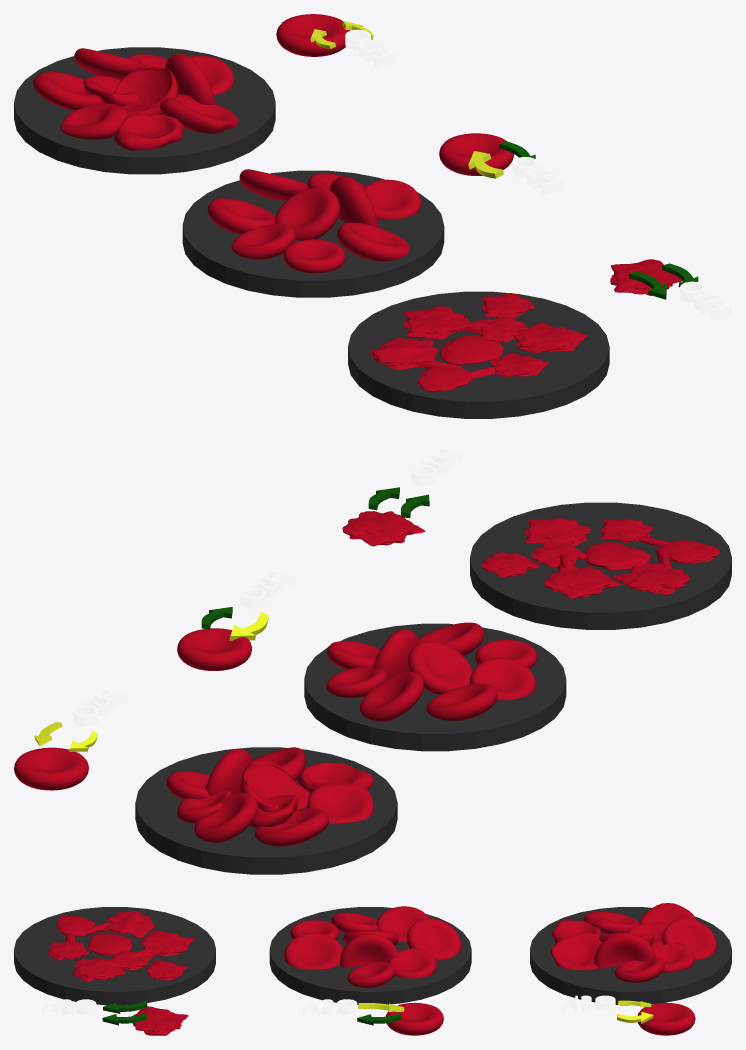
Rendered from animalcell.gltf.
3 views of the same model, one above another, from view 1: azimuth 30°, elevation 25°; view 2: azimuth 150°, elevation 25°; view 3: azimuth 270°, elevation 25° (orthographic). The views are drawn at different scales.
Parts seen in each view (by area): view 1: Circle, Circle.002, Circle.001, Sphere.003, Sphere.009, Sphere.015, Sphere.019, Sphere, Sphere.014, Sphere.018, Sphere.013, Sphere.006 (+22 smaller); view 2: Circle, Circle.001, Circle.002, Sphere.009, Sphere.019, Sphere.003, Sphere.007, Sphere.013, Sphere.015, Sphere.011, Sphere.002, Sphere.005 (+24 smaller); view 3: Circle, Circle.001, Circle.002, Sphere, Sphere.007, Sphere.010, Sphere.011, Sphere.008, Sphere.018, Sphere.009, Sphere.019, Sphere.001 (+28 smaller).
Part boxes in pixels (bbox=[...]): Circle: bbox=[348, 291, 609, 418]; Circle.002: bbox=[182, 170, 444, 297]; Circle.001: bbox=[14, 47, 275, 174]; Sphere.003: bbox=[275, 187, 340, 240]; Sphere.009: bbox=[276, 14, 350, 56]; Sphere.015: bbox=[114, 67, 178, 116]; Sphere.019: bbox=[439, 133, 513, 175]; Sphere: bbox=[337, 222, 410, 261]; Sphere.014: bbox=[114, 114, 183, 150]; Sphere.018: bbox=[160, 94, 238, 133]; Sphere.013: bbox=[60, 103, 128, 139]; Sphere.006: bbox=[363, 179, 421, 219]; Circle: bbox=[470, 502, 731, 629]; Circle.001: bbox=[135, 747, 397, 874]; Circle.002: bbox=[304, 623, 566, 751]; Sphere.009: bbox=[14, 747, 88, 790]; Sphere.019: bbox=[177, 628, 251, 670]; Sphere.003: bbox=[408, 641, 472, 694]; Sphere.007: bbox=[359, 671, 423, 721]; Sphere.013: bbox=[307, 782, 373, 823]; Sphere.015: bbox=[240, 761, 309, 812]; Sphere.011: bbox=[194, 792, 258, 842]; Sphere.002: bbox=[426, 683, 497, 720]; Sphere.005: bbox=[469, 658, 535, 700]; Circle: bbox=[14, 907, 215, 1005]; Circle.001: bbox=[530, 907, 731, 1005]; Circle.002: bbox=[269, 907, 471, 1004]; Sphere: bbox=[284, 933, 342, 969]; Sphere.007: bbox=[407, 918, 461, 960]; Sphere.010: bbox=[594, 933, 655, 968]; Sphere.011: bbox=[662, 918, 716, 960]; Sphere.008: bbox=[340, 933, 398, 967]; Sphere.018: bbox=[550, 932, 602, 970]; Sphere.009: bbox=[637, 1002, 695, 1035]; Sphere.019: bbox=[386, 1002, 443, 1035]; Sphere.001: bbox=[388, 948, 436, 978].
Size of the model in its own units: 7.48 by 1.5 by 17.76.
